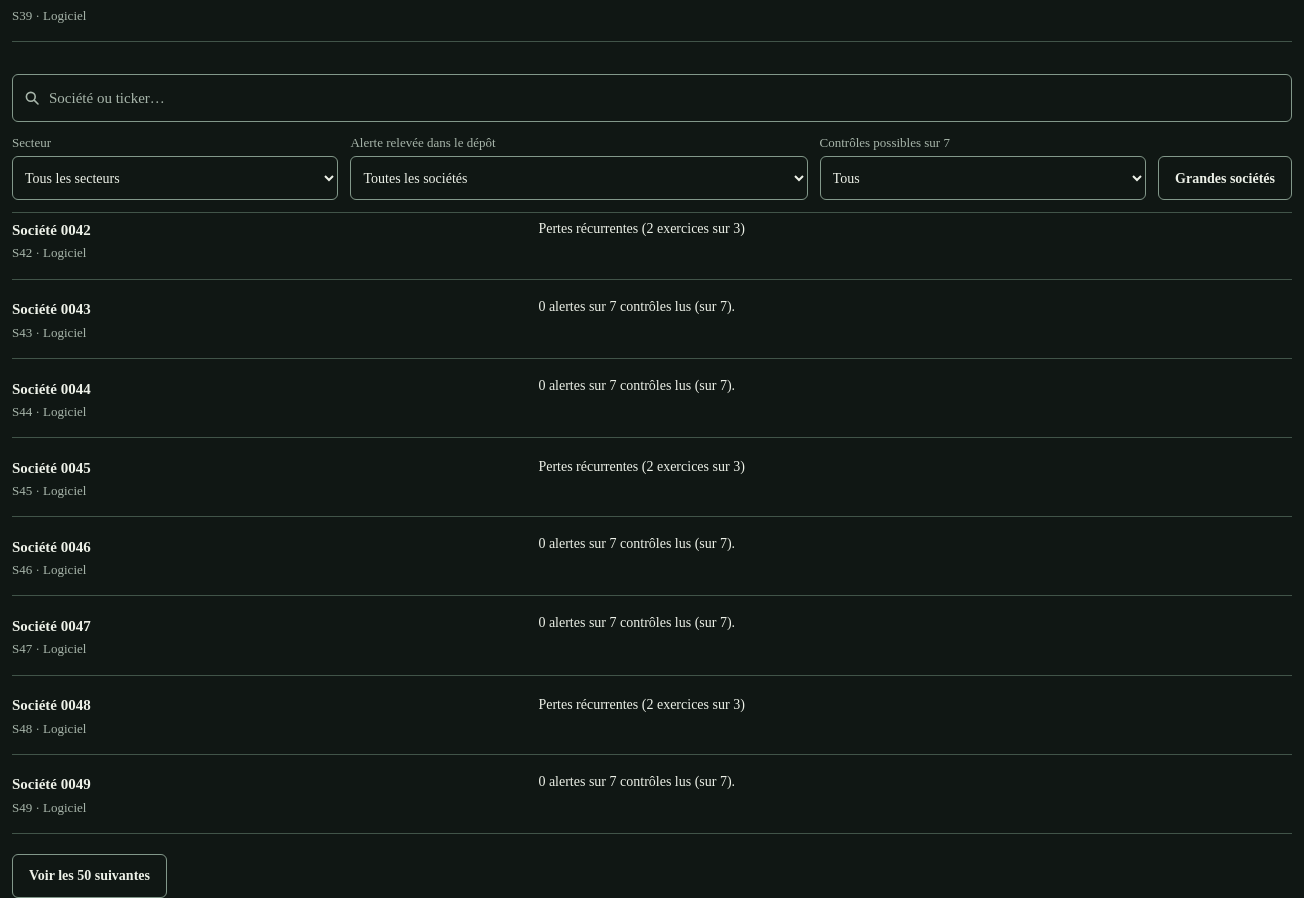
it: InvestirListe, pagination › adds 50 rows per click and drops the button once everything is shown
(page scrolled)
What coordinates should you click on to do the following:
click the button "Voir les 50 suivantes"
I would click on:
 (90, 876)
Its box is top-left (12, 854), bottom-right (167, 897).
(page scrolled)
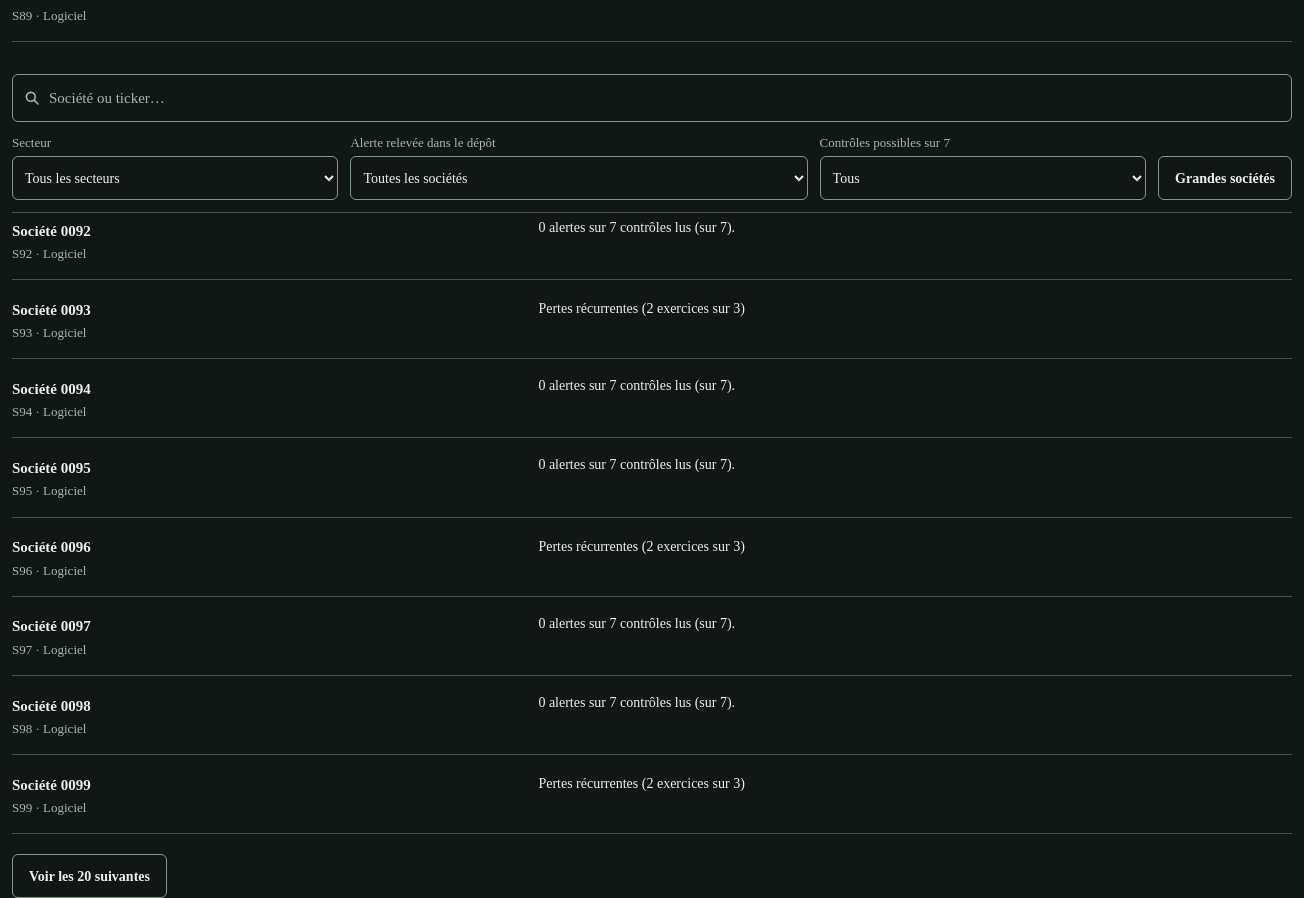
Note: The button names what it adds: 20 rows are left (the fleet's wording).
What coordinates should you click on to do the following:
click the button "Voir les 20 suivantes"
I would click on:
 (90, 876)
Its box is top-left (12, 854), bottom-right (167, 897).
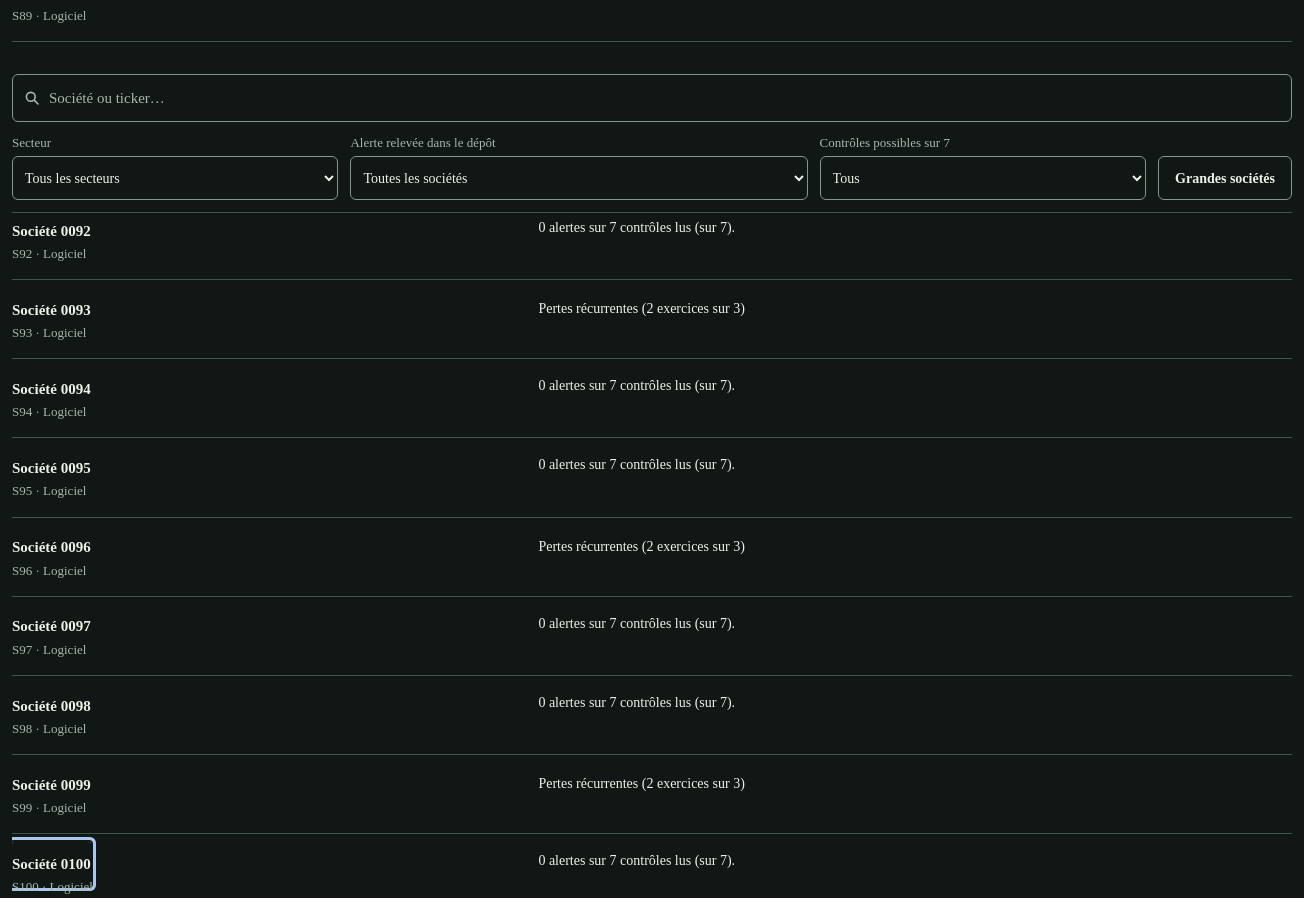
Expected: the button "Voir les" is gone
